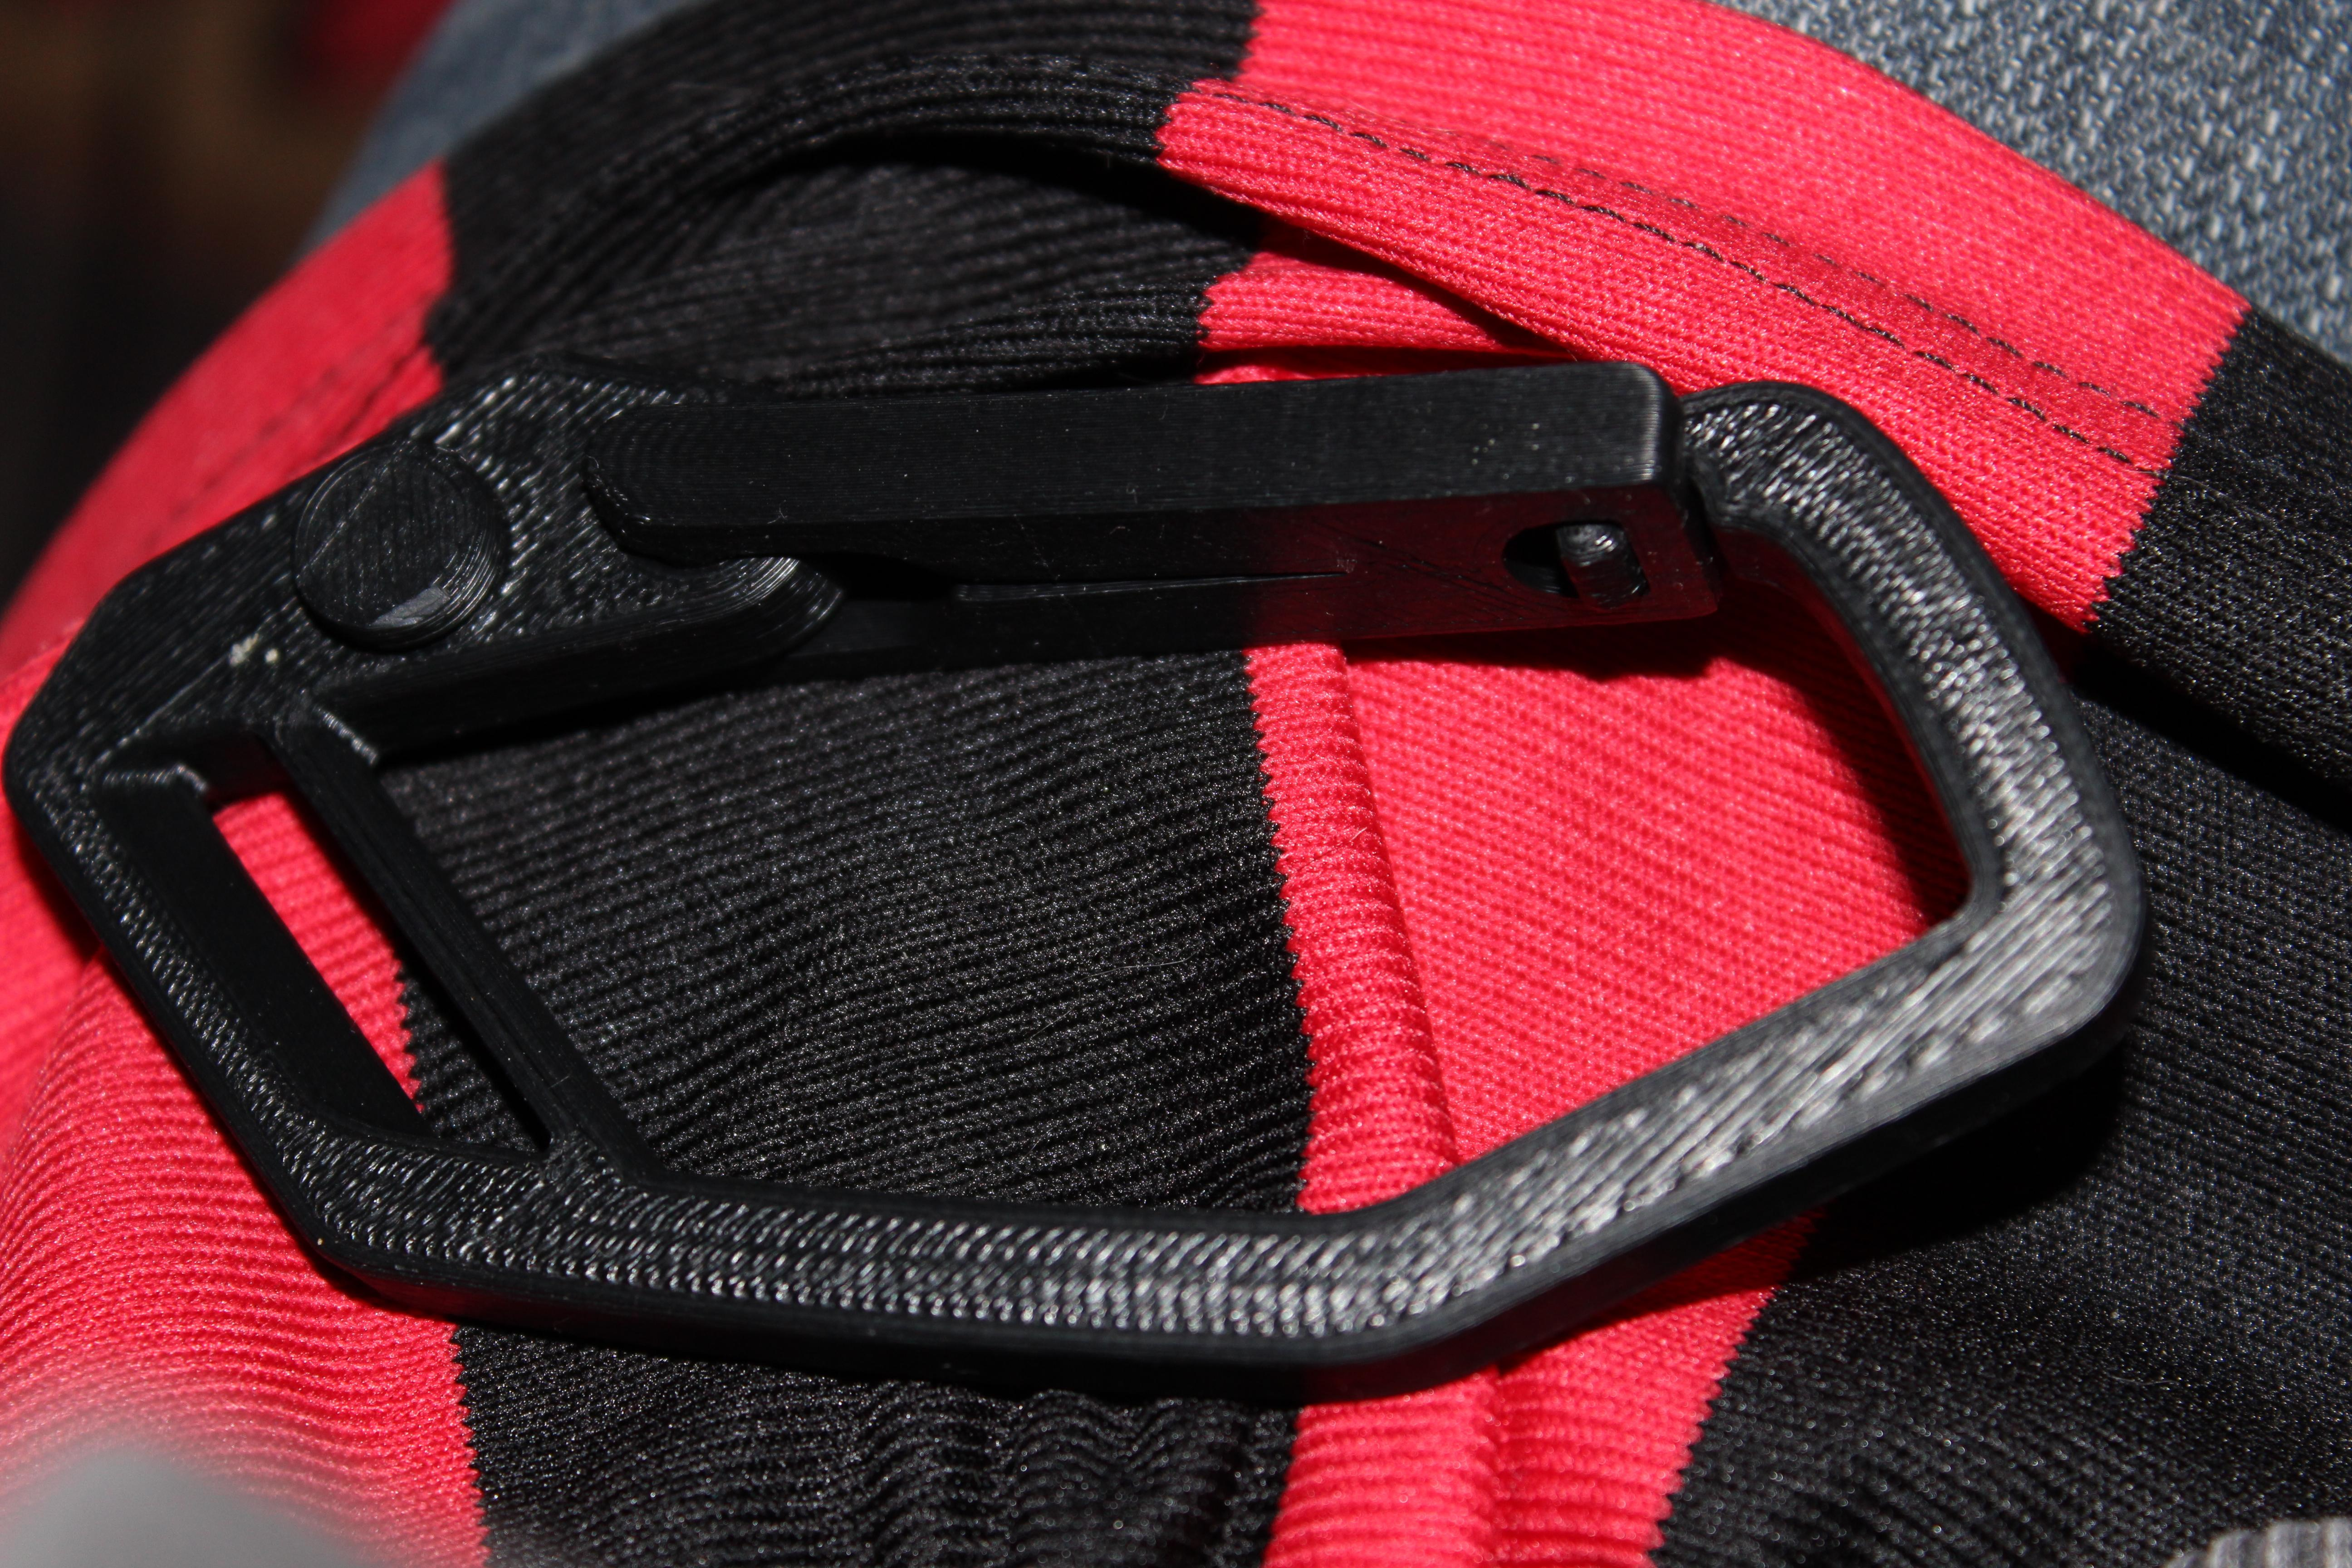carabiner: (0, 320, 2189, 1433)
